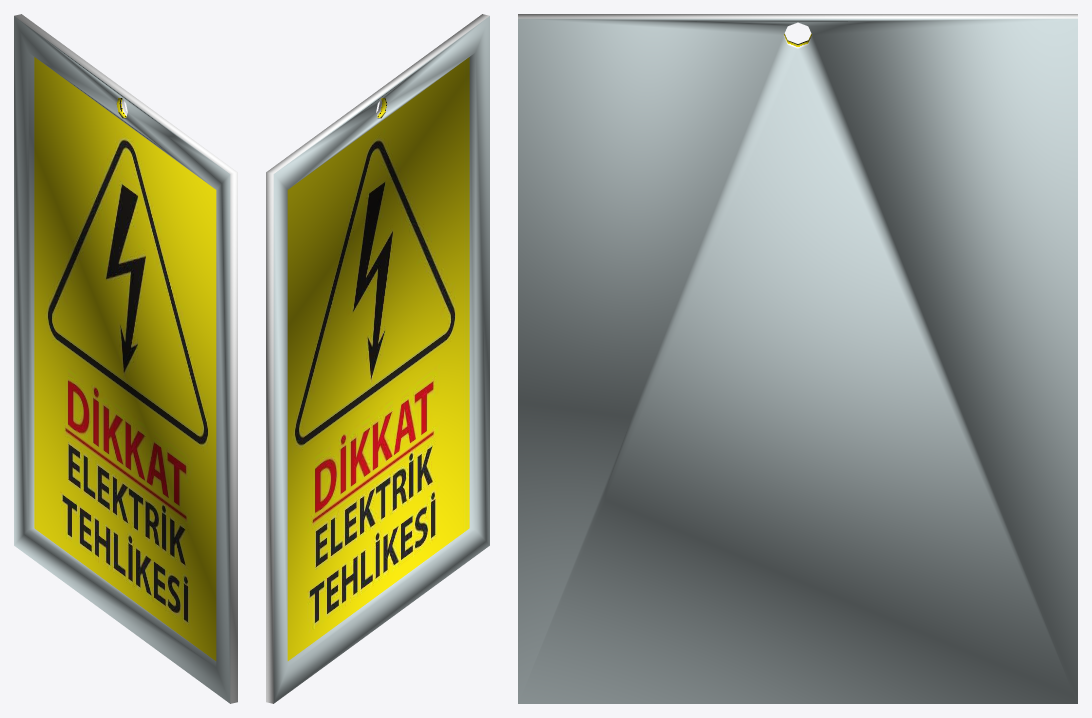
File: tabela.glb
The picture shows the model from 3 angles, left to right: view 1: azimuth 30°, elevation 25°; view 2: azimuth 150°, elevation 25°; view 3: azimuth 270°, elevation 25°; orthographic projection. The views are drawn at different scales.
Parts seen in each view (by area): view 1: tabela; view 2: tabela; view 3: tabela.
Part boxes in pixels (left/top/right/bottom): tabela: left=14, top=14, right=237, bottom=703; tabela: left=266, top=14, right=489, bottom=703; tabela: left=518, top=14, right=1077, bottom=703.
Size of the model in its own units: 0.00224 by 0.1494 by 0.1106.
2 materials, 1 textured.
